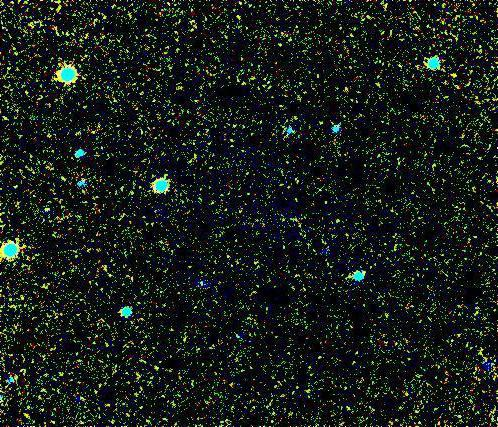star: (160, 66, 190, 96)
